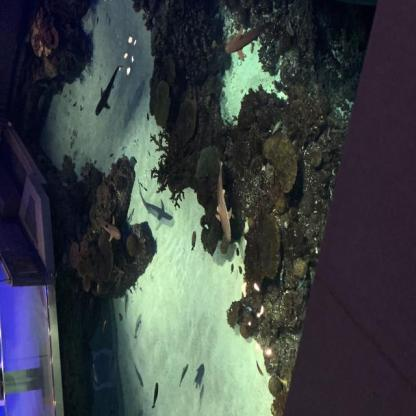fish: (178, 363, 189, 388), (134, 363, 144, 387), (133, 315, 142, 340), (152, 382, 160, 409), (190, 229, 198, 253), (254, 360, 264, 378), (100, 318, 108, 340), (124, 292, 129, 316), (136, 408, 145, 416), (235, 247, 241, 258), (230, 263, 235, 275), (238, 265, 244, 275), (133, 155, 138, 164), (119, 313, 123, 322), (146, 113, 150, 122), (139, 182, 143, 188), (110, 152, 114, 158), (144, 188, 148, 192)
shark: (225, 22, 275, 62), (213, 153, 233, 245), (93, 63, 124, 118), (139, 186, 174, 223), (94, 213, 122, 243)
